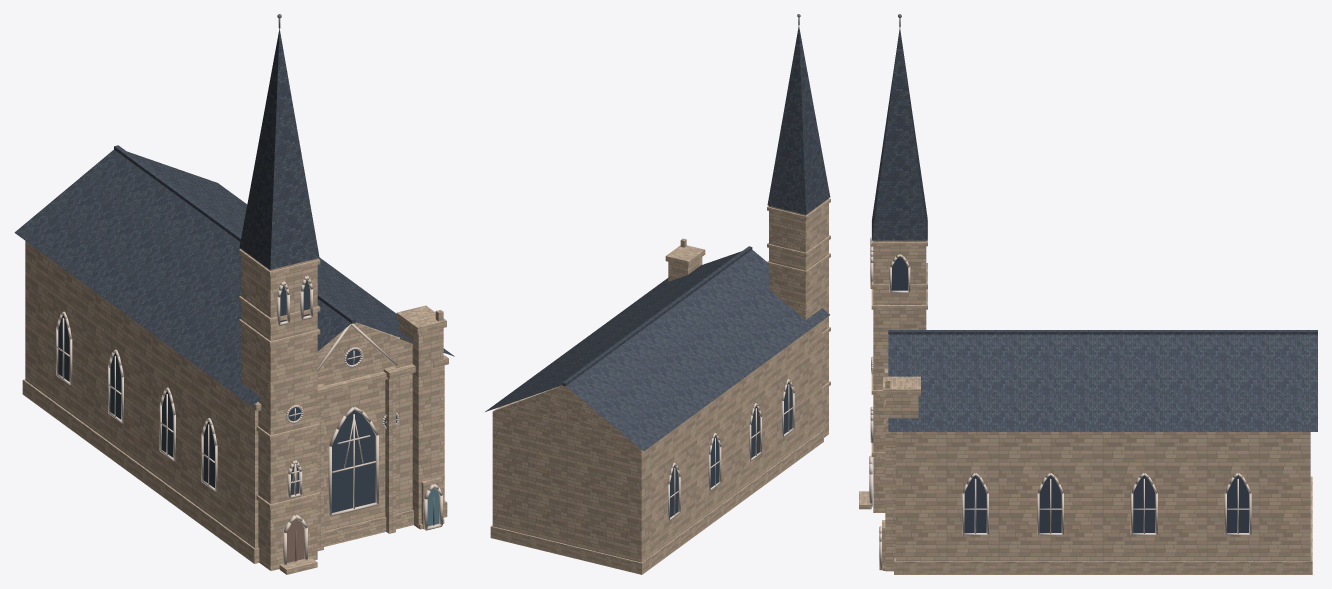
The picture shows the model from 3 angles, left to right: view 1: azimuth 30°, elevation 25°; view 2: azimuth 150°, elevation 25°; view 3: azimuth 270°, elevation 25°; orthographic projection. The views are drawn at different scales.
Visible parts, largest first — view 1: Main nave rubble walls001, West slate roof slope001, Western tower shaft001, Western slated spire_face_003, East slate roof slope001, Continuous plinth001, Eastern narrow tower001, Western slated spire_face_004, Principal traceried lancet_glazing001, Front gable masonry001, Front buttress 1.096, Slate ridge cap001 (+9 smaller); view 2: Main nave rubble walls001, West slate roof slope001, Western tower shaft001, East slate roof slope001, Continuous plinth001, Western slated spire_face_001, Rear gable masonry001, Western slated spire_face_004, Slate ridge cap001, Eastern tower parapet band001; view 3: Main nave rubble walls001, East slate roof slope001, Continuous plinth001, Western slated spire_face_002, Western tower shaft001, Eastern narrow tower001, Slate ridge cap001, East_side_lancet_3_glazing001, East_side_lancet_2_glazing001, East_side_lancet_4_glazing001, East_side_lancet_1_glazing001, Eastern tower parapet band001.
Boxes of the visible parts, x1,y1,x2,y2 form: Main nave rubble walls001: (25,241,444,548); West slate roof slope001: (14,150,351,406); Western tower shaft001: (241,249,317,570); Western slated spire_face_003: (270,29,319,269); East slate roof slope001: (127,151,454,356); Continuous plinth001: (22,379,447,563); Eastern narrow tower001: (400,321,443,528); Western slated spire_face_004: (239,29,279,269); Principal traceried lancet_glazing001: (332,410,375,512); Front gable masonry001: (317,323,443,384); Front buttress 1.096: (385,377,395,533); Slate ridge cap001: (114,145,355,323); Main nave rubble walls001: (492,321,821,562); West slate roof slope001: (566,249,829,450); Western tower shaft001: (769,198,828,437); East slate roof slope001: (485,251,741,411); Continuous plinth001: (490,430,823,574); Western slated spire_face_001: (767,26,806,214); Rear gable masonry001: (493,385,637,446); Western slated spire_face_004: (799,26,830,214); Slate ridge cap001: (562,246,752,386); Eastern tower parapet band001: (665,245,705,266); Main nave rubble walls001: (895,432,1310,560); East slate roof slope001: (888,334,1317,431); Continuous plinth001: (894,476,1312,574); Western slated spire_face_002: (872,27,927,240); Western tower shaft001: (873,240,926,512); Eastern narrow tower001: (885,395,918,571); Slate ridge cap001: (888,330,1317,334); East_side_lancet_3_glazing001: (1039,475,1061,532); East_side_lancet_2_glazing001: (1133,475,1155,532); East_side_lancet_4_glazing001: (964,475,986,532); East_side_lancet_1_glazing001: (1227,475,1248,532); Eastern tower parapet band001: (883,376,920,395).
Size of the model in its own units: 10.2 by 25.92 by 22.02.
Materials: 7 (2 with a texture image).
